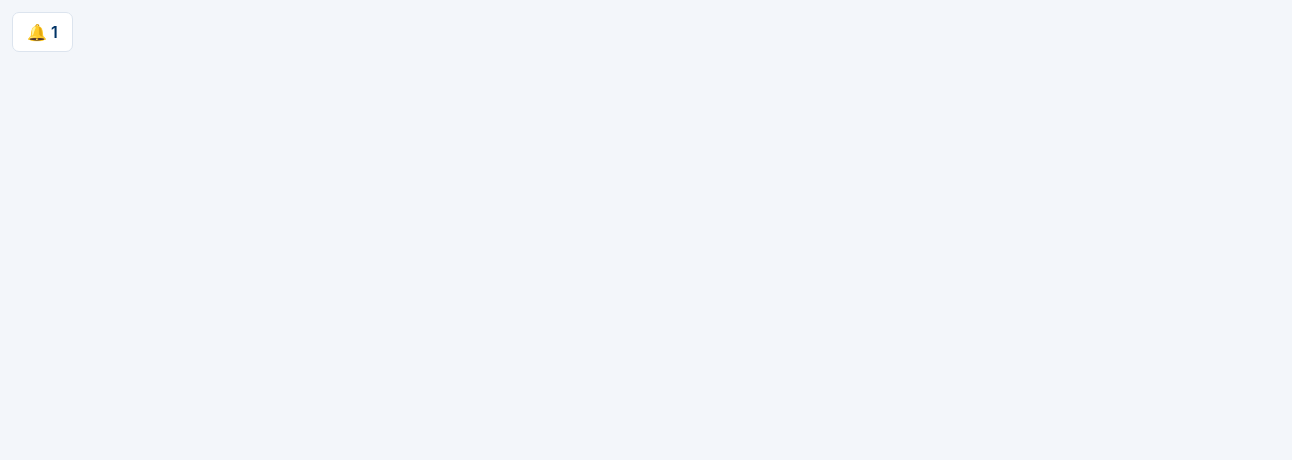
Test case: la campana muestra el contador real y permite marcar la notificación propia
Click the button named "Notificaciones: 1 no leídas": coordinates (42, 32) [12,12,73,52]
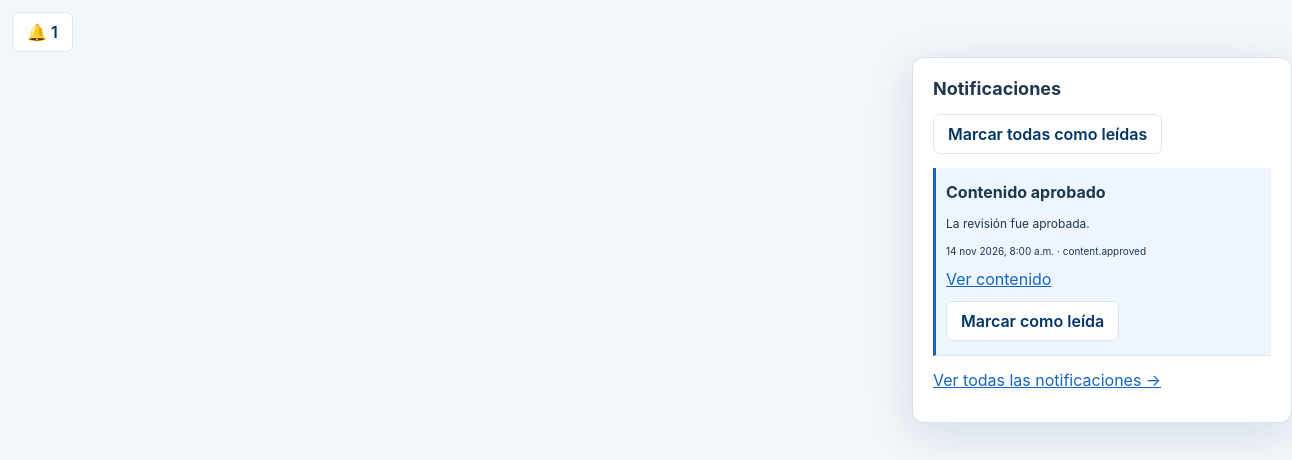
Expected: the text "La revisión fue aprobada." is shown, [946,216,1090,231]
Click the button "Marcar como leída": coordinates (1033, 321) [946,301,1119,341]
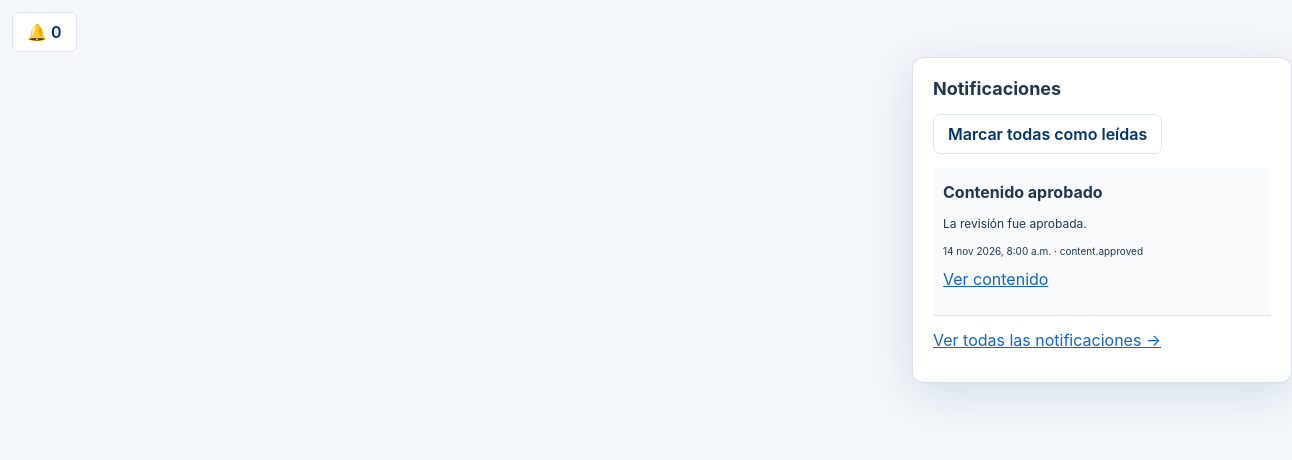
Expected: the button named "Notificaciones: 0 no leídas" is shown, [12,12,77,52]
